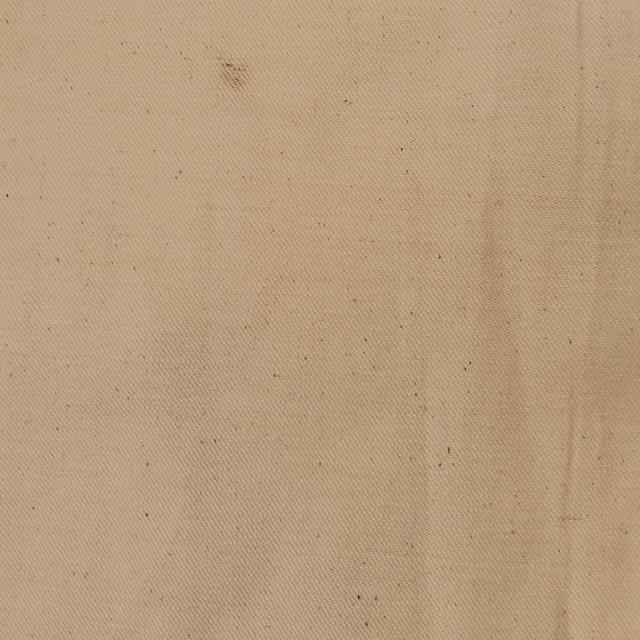taaaches: (211, 38, 255, 108)
